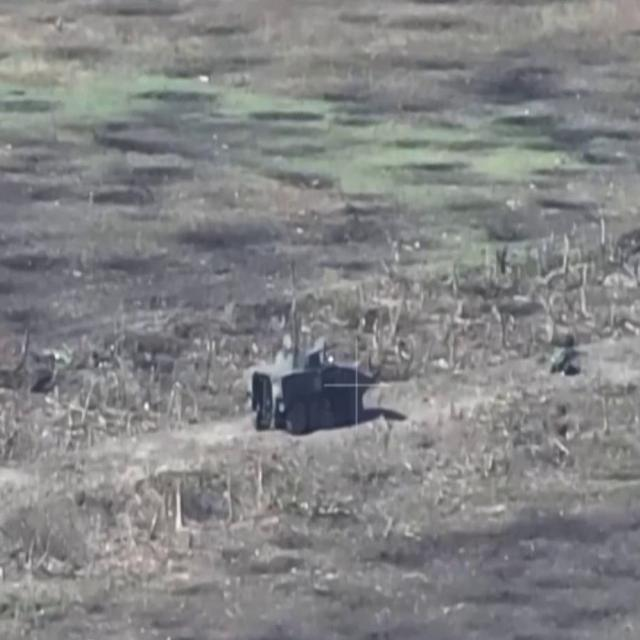APC: (245, 333, 379, 439)
